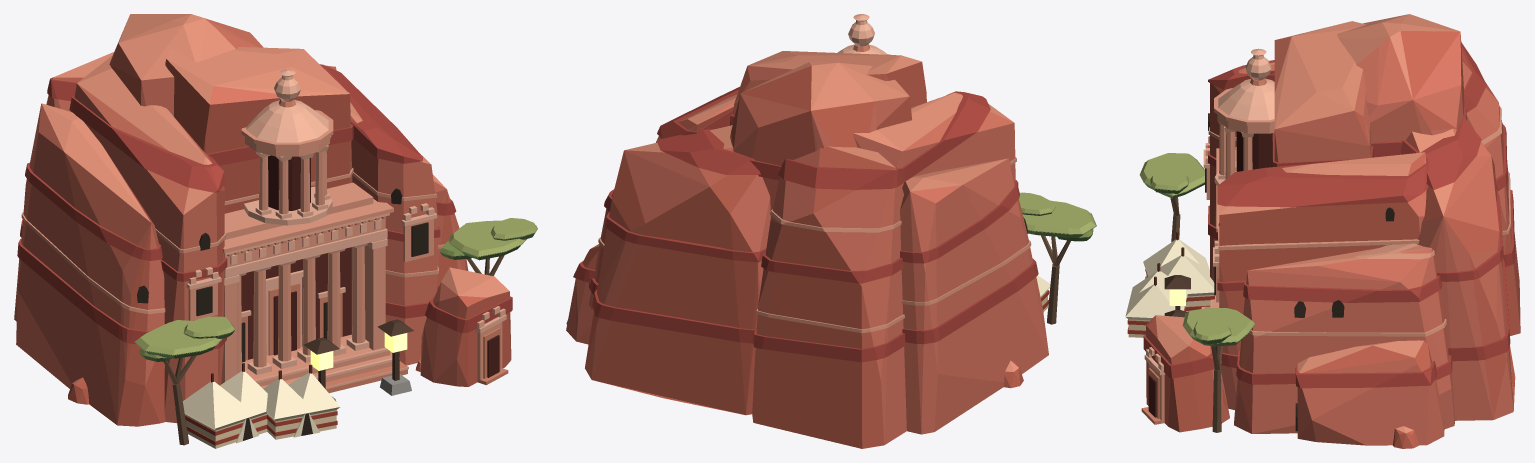
File: rock_cut_town.glb
3 views of the same model, side by side, from view 1: azimuth 30°, elevation 25°; view 2: azimuth 150°, elevation 25°; view 3: azimuth 270°, elevation 25° (orthographic). The views are drawn at different scales.
Visible parts, largest first — view 1: rock_cut_town_RC_Rock, rock_cut_town_RC_Facade, rock_cut_town_RC_RockTop, rock_cut_town_RC_RockBand, rock_cut_town_RC_FacadeLight, rock_cut_town_RC_RockMid, rock_cut_town_RC_RecessRock, rock_cut_town_RC_Ivory, rock_cut_town_RC_Palm2, rock_cut_town_RC_Shadow, rock_cut_town_RC_DeepArch, rock_cut_town_RC_Dark (+9 smaller); view 2: rock_cut_town_RC_Rock, rock_cut_town_RC_RockMid, rock_cut_town_RC_RockBand, rock_cut_town_RC_RockTop, rock_cut_town_RC_Palm2, rock_cut_town_RC_RockLayer, rock_cut_town_RC_Branch, rock_cut_town_RC_FacadeLight; view 3: rock_cut_town_RC_Rock, rock_cut_town_RC_RockMid, rock_cut_town_RC_RockBand, rock_cut_town_RC_RockTop, rock_cut_town_RC_Palm2, rock_cut_town_RC_Ivory, rock_cut_town_RC_FacadeLight, rock_cut_town_RC_RockLayer, rock_cut_town_RC_Facade, rock_cut_town_RC_DeepArch, rock_cut_town_RC_Branch, rock_cut_town_RC_Dark (+4 smaller).
Boxes of the visible parts, box(x1,y1,x2,y2) form: rock_cut_town_RC_Rock: box(14, 18, 511, 424); rock_cut_town_RC_Facade: box(188, 110, 502, 388); rock_cut_town_RC_RockTop: box(41, 14, 509, 384); rock_cut_town_RC_RockBand: box(17, 64, 512, 349); rock_cut_town_RC_FacadeLight: box(186, 69, 506, 389); rock_cut_town_RC_RockMid: box(53, 23, 511, 426); rock_cut_town_RC_RecessRock: box(205, 94, 378, 213); rock_cut_town_RC_Ivory: box(182, 371, 339, 443); rock_cut_town_RC_Palm2: box(134, 218, 537, 355); rock_cut_town_RC_Shadow: box(241, 247, 351, 359); rock_cut_town_RC_DeepArch: box(268, 155, 499, 377); rock_cut_town_RC_Dark: box(137, 188, 428, 440); rock_cut_town_RC_Rock: box(566, 65, 1048, 444); rock_cut_town_RC_RockMid: box(566, 62, 1023, 448); rock_cut_town_RC_RockBand: box(573, 87, 1038, 362); rock_cut_town_RC_RockTop: box(591, 51, 1018, 371); rock_cut_town_RC_Palm2: box(1019, 192, 1095, 234); rock_cut_town_RC_RockLayer: box(598, 157, 1031, 333); rock_cut_town_RC_Branch: box(1041, 235, 1070, 324); rock_cut_town_RC_FacadeLight: box(837, 14, 887, 54); rock_cut_town_RC_Rock: box(1168, 32, 1520, 445); rock_cut_town_RC_RockMid: box(1146, 31, 1520, 448); rock_cut_town_RC_RockBand: box(1143, 42, 1515, 388); rock_cut_town_RC_RockTop: box(1155, 14, 1459, 433); rock_cut_town_RC_Palm2: box(1140, 153, 1254, 343); rock_cut_town_RC_Ivory: box(1125, 239, 1214, 327); rock_cut_town_RC_FacadeLight: box(1144, 48, 1274, 375); rock_cut_town_RC_RockLayer: box(1208, 106, 1511, 336); rock_cut_town_RC_Facade: box(1148, 88, 1274, 423); rock_cut_town_RC_DeepArch: box(1148, 131, 1272, 417); rock_cut_town_RC_Branch: box(1170, 197, 1222, 432); rock_cut_town_RC_Dark: box(1205, 113, 1394, 431).
Bounding box in the file's own units: 4.01 × 2.92 × 3.43.
